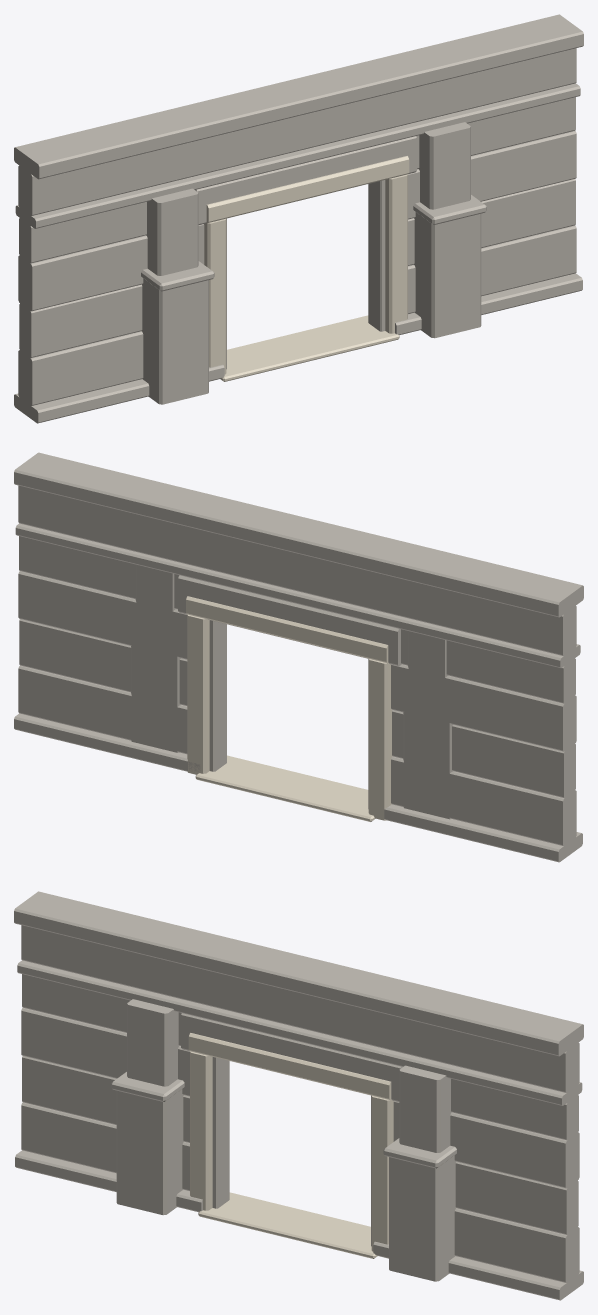
File: wall_door.glb
3 views of the same model, one above another, from view 1: azimuth 30°, elevation 25°; view 2: azimuth 150°, elevation 25°; view 3: azimuth 330°, elevation 25° (orthographic).
Visible parts, largest first — view 1: wall_door; view 2: wall_door; view 3: wall_door.
Boxes of the visible parts, left/top/right/bottom form: wall_door: left=14, top=14, right=583, bottom=423; wall_door: left=14, top=452, right=583, bottom=862; wall_door: left=14, top=891, right=583, bottom=1300.
Bounding box in the file's own units: 11.4 × 5.25 × 1.5.
